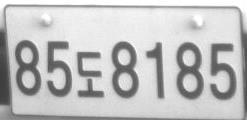1: (143, 41, 170, 99)
5: (209, 42, 237, 100), (46, 40, 72, 97)
8: (110, 40, 139, 99), (175, 41, 204, 100), (14, 38, 41, 96)
도: (76, 50, 104, 98)
